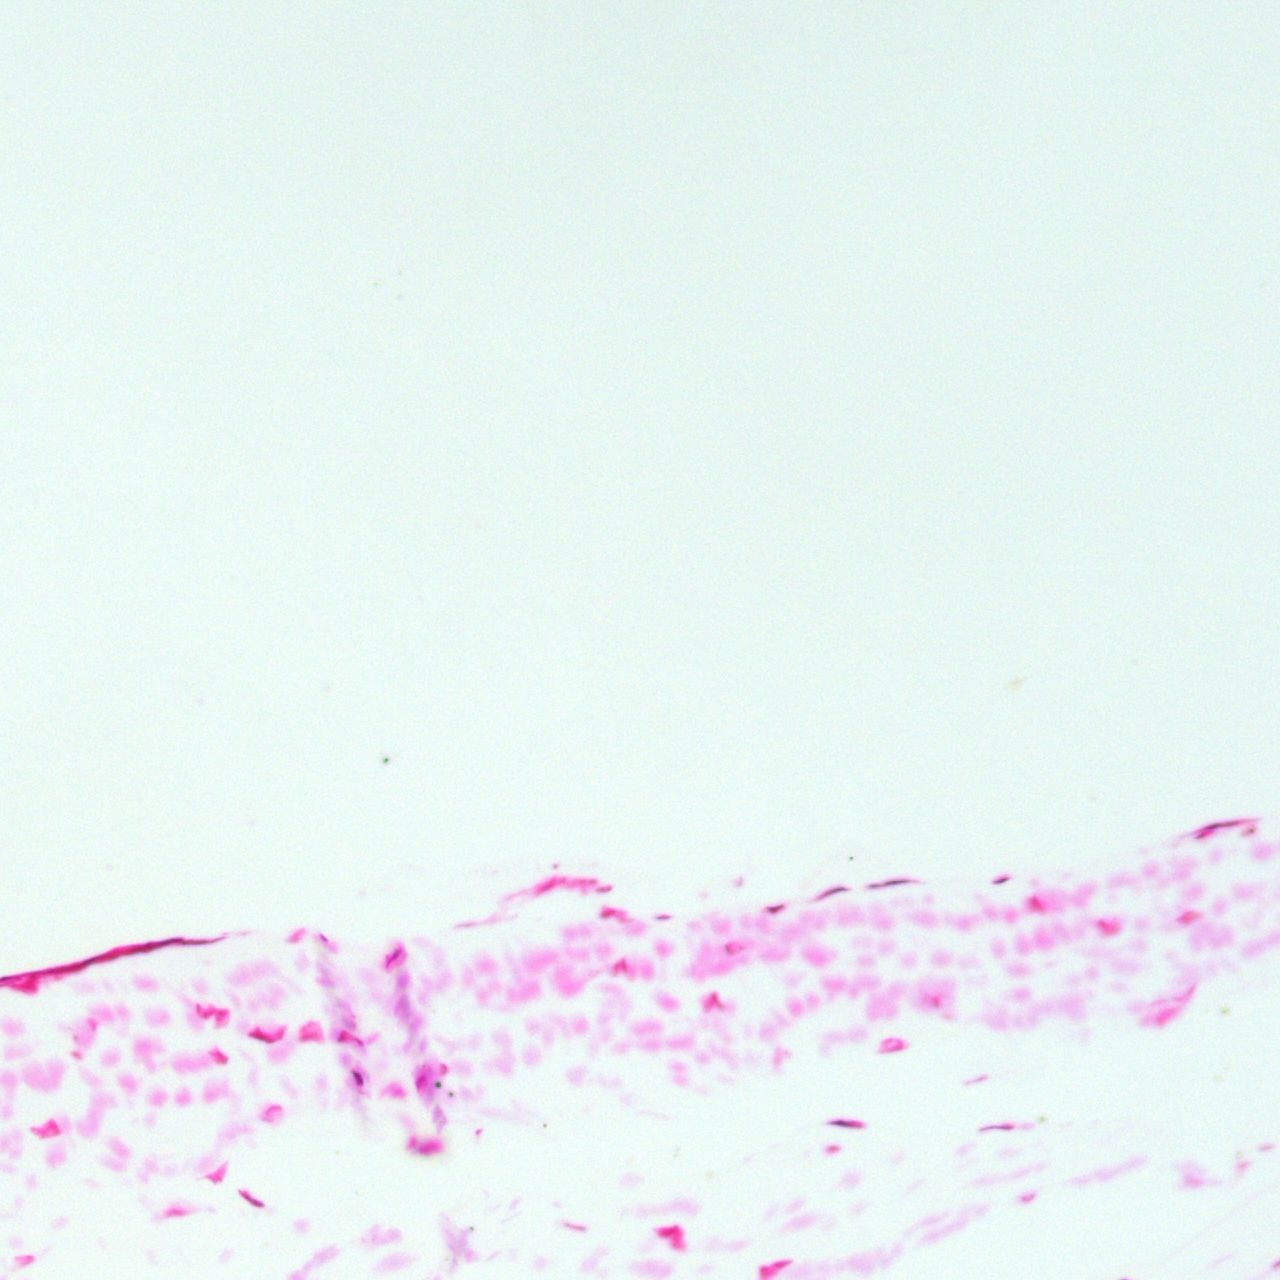dust: (445, 1088, 458, 1101), (552, 863, 564, 872), (469, 1223, 477, 1233), (381, 755, 390, 763), (430, 1080, 441, 1087), (849, 856, 855, 862), (1250, 828, 1254, 835), (542, 1122, 546, 1128)
nucleus-FG: (137, 934, 206, 949), (236, 1187, 265, 1210), (382, 944, 404, 971), (535, 874, 559, 896), (246, 1029, 275, 1046), (1204, 817, 1238, 831), (818, 886, 846, 898), (658, 1224, 681, 1238), (350, 1069, 366, 1088), (828, 1119, 860, 1128), (77, 956, 100, 968), (414, 1075, 428, 1092), (884, 878, 910, 887), (979, 1125, 1013, 1132), (708, 990, 721, 1008), (765, 903, 787, 913), (994, 874, 1009, 886), (600, 908, 615, 918), (869, 883, 883, 888), (338, 1032, 346, 1041), (1193, 832, 1204, 839)
